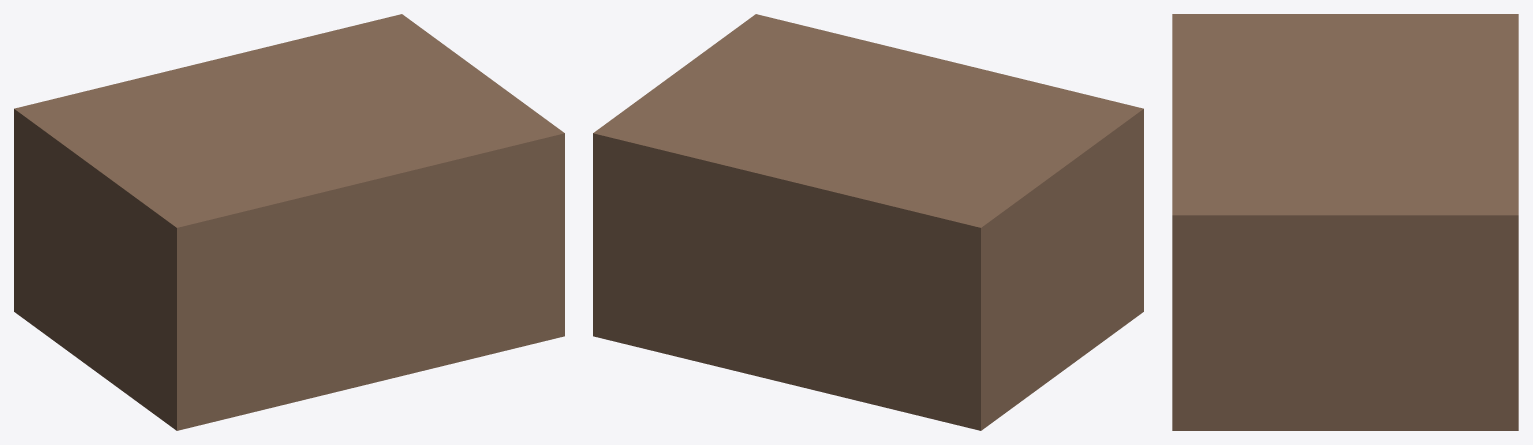
The model's file is jerky.glb.
The picture shows the model from 3 angles, left to right: view 1: azimuth 30°, elevation 25°; view 2: azimuth 150°, elevation 25°; view 3: azimuth 270°, elevation 25°; orthographic projection. The views are drawn at different scales.
Parts seen in each view (by area): view 1: 00_jerky_pack; view 2: 00_jerky_pack; view 3: 00_jerky_pack.
Part boxes in pixels (<box>): 00_jerky_pack: <box>14,14,564,430</box>; 00_jerky_pack: <box>593,14,1143,430</box>; 00_jerky_pack: <box>1172,14,1518,430</box>.
Bounding box in the file's own units: 0.22 × 0.119 × 0.16.
